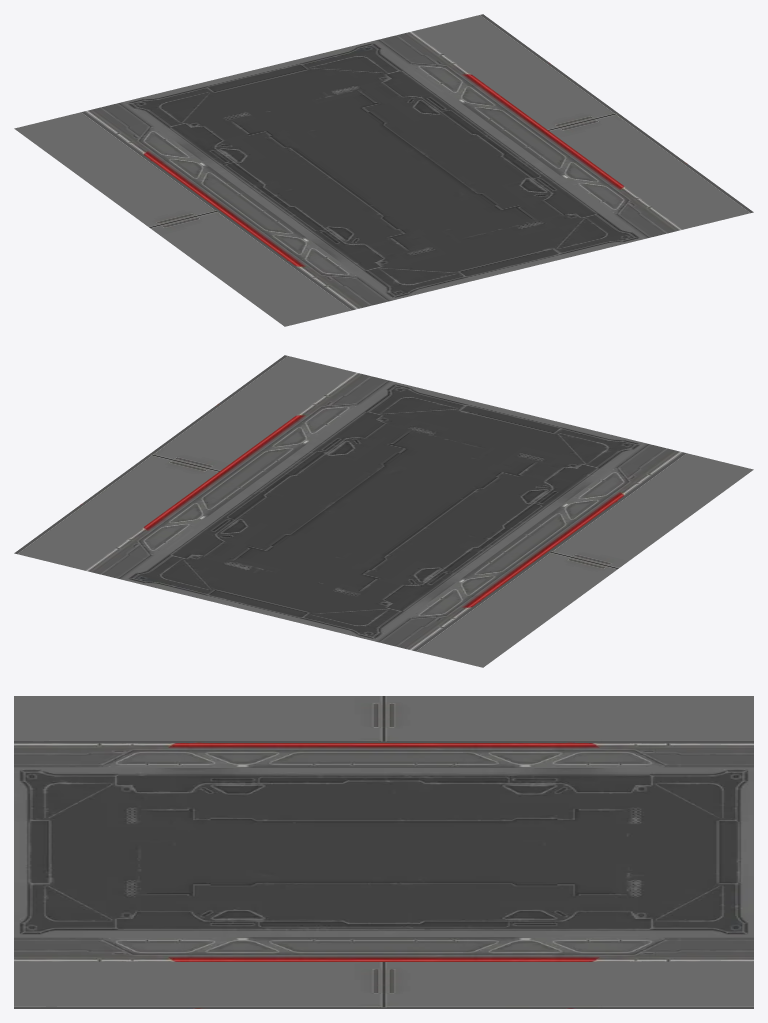
File: floor-center.glb
The picture shows the model from 3 angles, top to bottom: view 1: azimuth 30°, elevation 25°; view 2: azimuth 150°, elevation 25°; view 3: azimuth 270°, elevation 25°; orthographic projection. The views are drawn at different scales.
Parts seen in each view (by area): view 1: Platform_CenterPlate; view 2: Platform_CenterPlate; view 3: Platform_CenterPlate.
Boxes of the visible parts, left/top/right/bottom form: Platform_CenterPlate: left=14, top=14, right=753, bottom=326; Platform_CenterPlate: left=14, top=355, right=753, bottom=667; Platform_CenterPlate: left=14, top=696, right=753, bottom=1008.
Bounding box in the file's own units: 4 × 2.84e-14 × 4.
2 materials, 2 textured.
